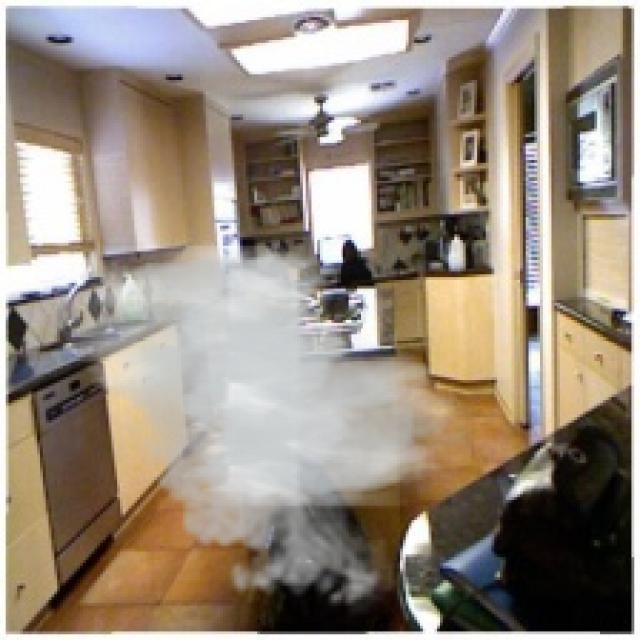smoke: (54, 246, 472, 617)
